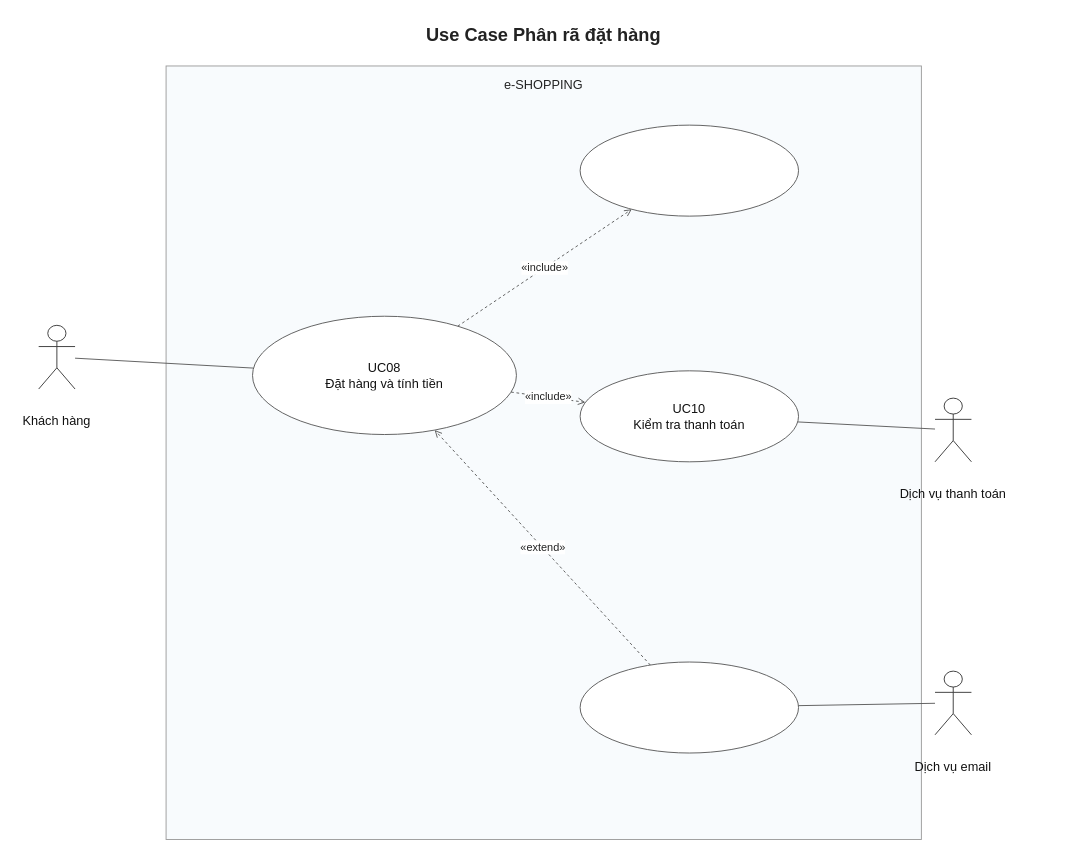
Image size: 1087x855. Some labels were removed from this diagram. The shapes that lost their labels are listed below. From the top down, each one's centre as x and y in pixels, then its label:
At point 689,170: "UC09 Tính phí và tổng".
At point 689,707: "UC11 Gửi email xác nhận".
